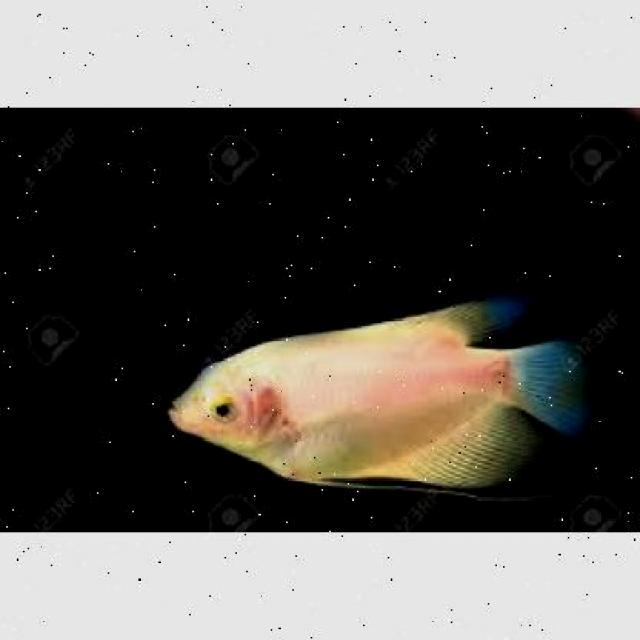gurame: (167, 310, 596, 496)
